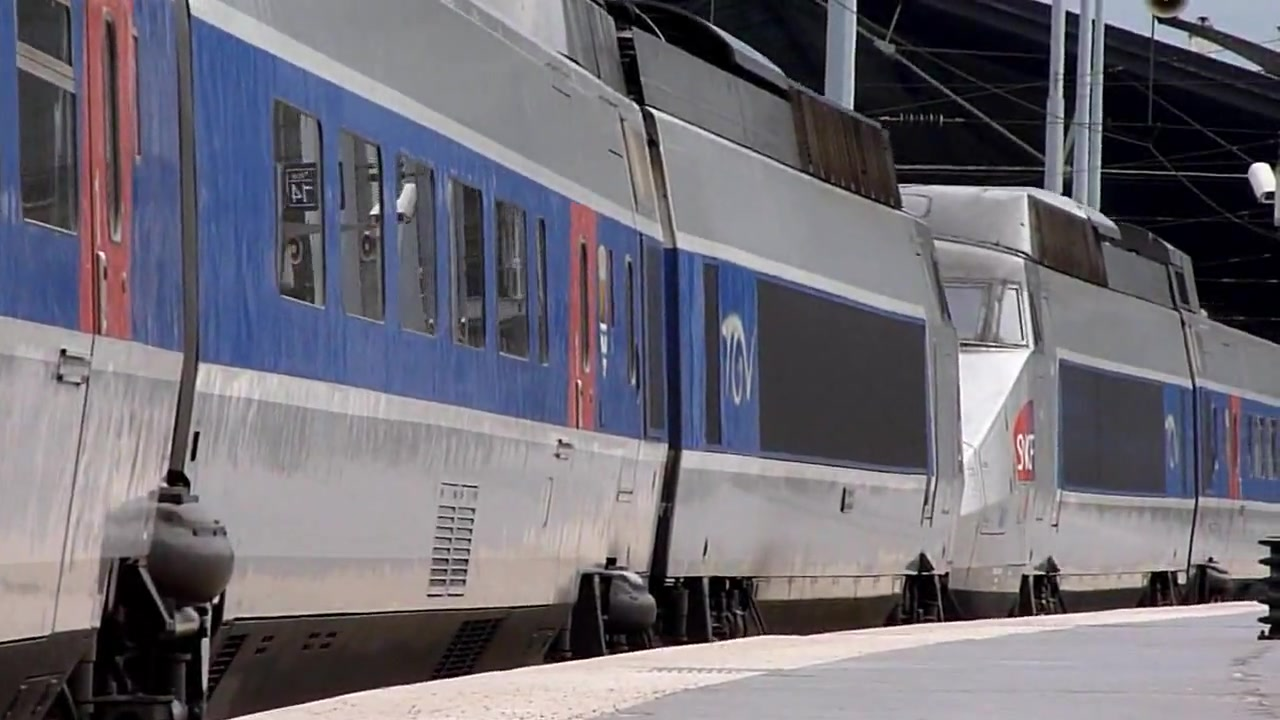train: (1, 1, 1280, 710)
